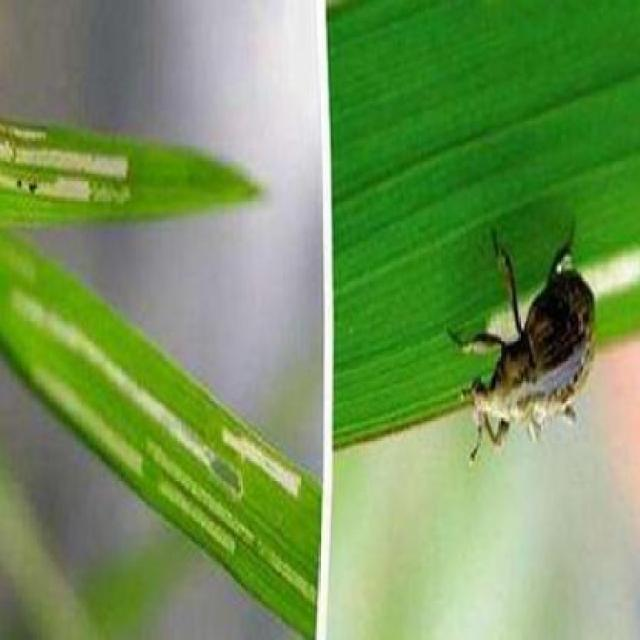rice-bug: (462, 236, 600, 436)
